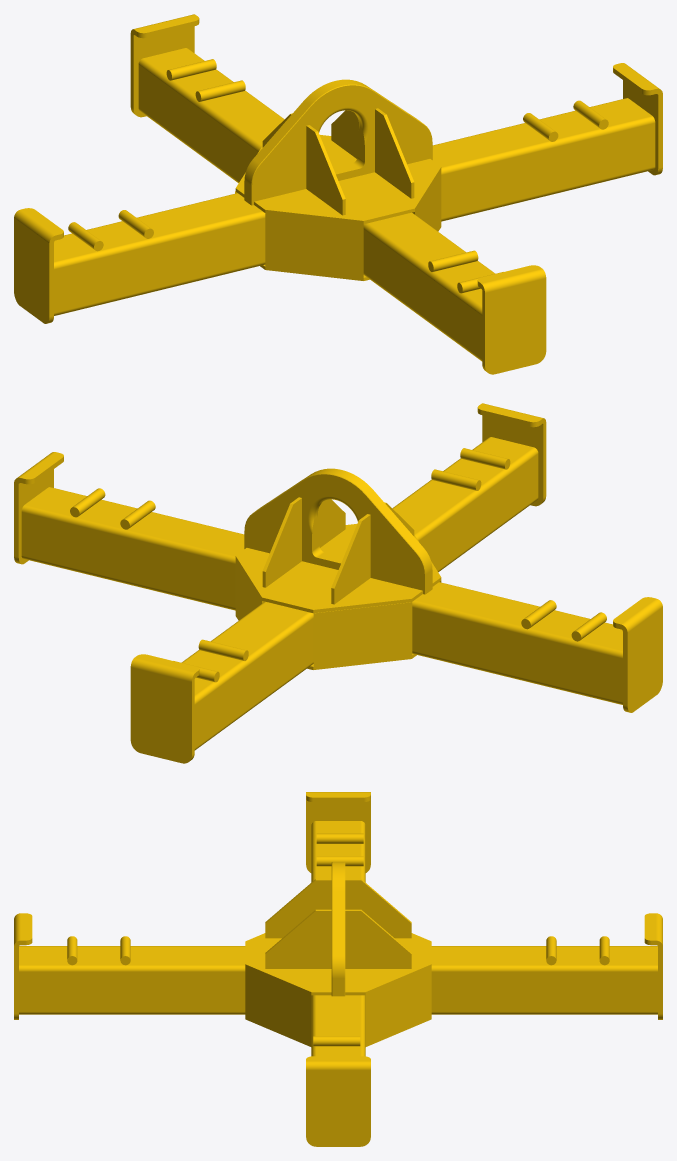
Rendered from BCL-XSS-V13T.glb.
3 views of the same model, one above another, from view 1: azimuth 30°, elevation 25°; view 2: azimuth 150°, elevation 25°; view 3: azimuth 270°, elevation 25° (orthographic). The views are drawn at different scales.
Visible parts, largest first — view 1: PTR 4X4-1, PTR 4X42-1, PTR 4X42-2, oreja-1, tope-2, Pieza3^ENSAMBLE PARA PLANO OK-1, placa2-1, tope-1, tope-4, Pieza6^ENSAMBLE PARA PLANO OK-1, Pieza6^ENSAMBLE PARA PLANO OK-2, tope-3 (+6 smaller); view 2: PTR 4X4-1, PTR 4X42-1, PTR 4X42-2, oreja-1, tope-4, Pieza3^ENSAMBLE PARA PLANO OK-4, placa2-2, tope-1, tope-2, Pieza6^ENSAMBLE PARA PLANO OK-4, Pieza6^ENSAMBLE PARA PLANO OK-3, tope-3 (+6 smaller); view 3: PTR 4X4-1, tope-3, Pieza3^ENSAMBLE PARA PLANO OK-2, Pieza3^ENSAMBLE PARA PLANO OK-3, PTR 4X42-1, Pieza6^ENSAMBLE PARA PLANO OK-3, Pieza6^ENSAMBLE PARA PLANO OK-2, tope-1, placa2-2, placa2-1, PTR 4X42-2, oreja-1 (+6 smaller).
Part boxes in pixels (x1,y1,x2,y2): PTR 4X4-1: (138,48,495,361); PTR 4X42-1: (432,98,655,221); PTR 4X42-2: (54,193,265,315); oreja-1: (244,79,432,205); tope-2: (477,265,546,374); Pieza3^ENSAMBLE PARA PLANO OK-1: (265,213,363,277); placa2-1: (254,159,441,224); tope-1: (14,208,63,323); tope-4: (130,14,199,117); Pieza6^ENSAMBLE PARA PLANO OK-1: (306,125,345,215); Pieza6^ENSAMBLE PARA PLANO OK-2: (375,108,414,198); tope-3: (613,63,662,175); PTR 4X4-1: (181,437,538,750); PTR 4X42-1: (21,487,244,610); PTR 4X42-2: (412,582,622,704); oreja-1: (244,468,432,594); tope-4: (130,654,199,763); Pieza3^ENSAMBLE PARA PLANO OK-4: (313,602,412,666); placa2-2: (235,548,422,613); tope-1: (613,597,662,712); tope-2: (477,403,546,506); Pieza6^ENSAMBLE PARA PLANO OK-4: (331,514,370,604); Pieza6^ENSAMBLE PARA PLANO OK-3: (262,497,301,587); tope-3: (14,452,63,564); PTR 4X4-1: (19,946,657,1014); tope-3: (306,1056,370,1146); Pieza3^ENSAMBLE PARA PLANO OK-2: (245,967,311,1043); Pieza3^ENSAMBLE PARA PLANO OK-3: (365,967,431,1043); PTR 4X42-1: (311,995,365,1056); Pieza6^ENSAMBLE PARA PLANO OK-3: (345,909,411,968); Pieza6^ENSAMBLE PARA PLANO OK-2: (265,909,331,968); tope-1: (306,792,370,872); placa2-2: (345,933,431,995); placa2-1: (245,933,331,995); PTR 4X42-2: (311,821,365,882); oreja-1: (331,862,345,996).
Size of the model in its own units: 1.22 by 0.2966 by 1.22.
